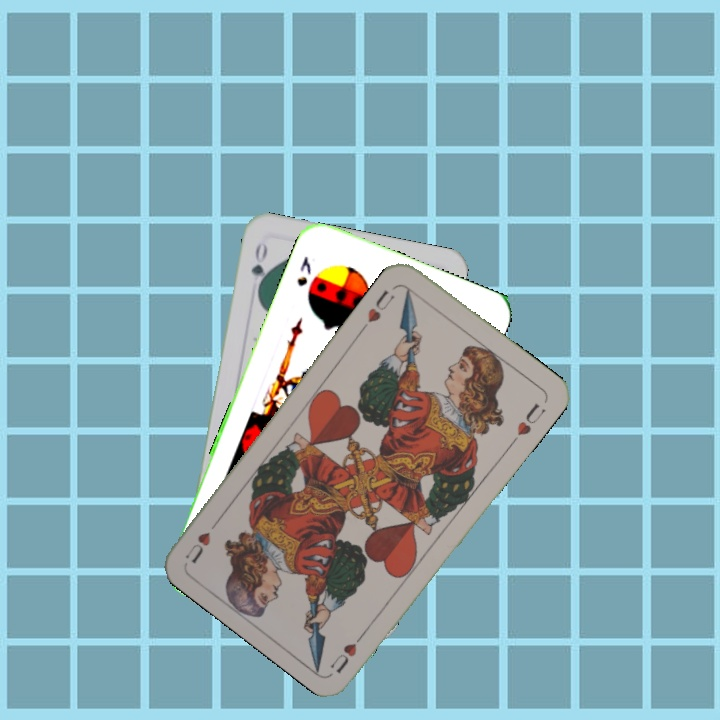GO: (246, 238, 270, 296)
HU: (326, 625, 370, 676), (363, 285, 398, 325)
SK: (292, 252, 314, 289)
